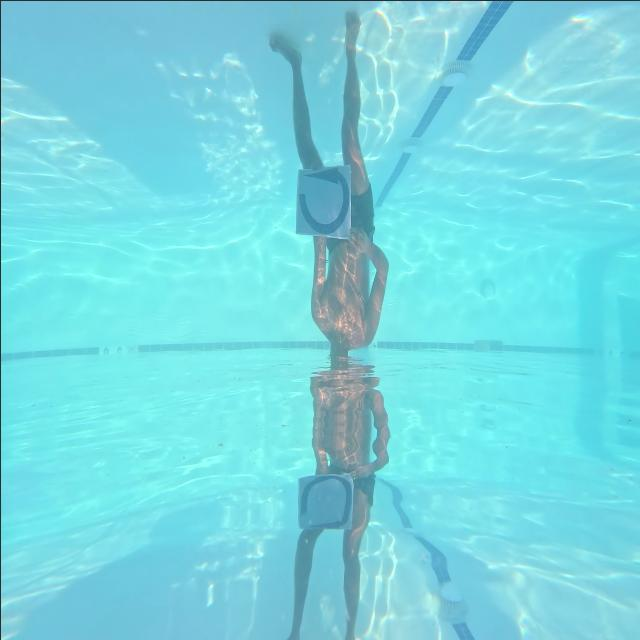blue_side: (284, 154, 350, 246)
